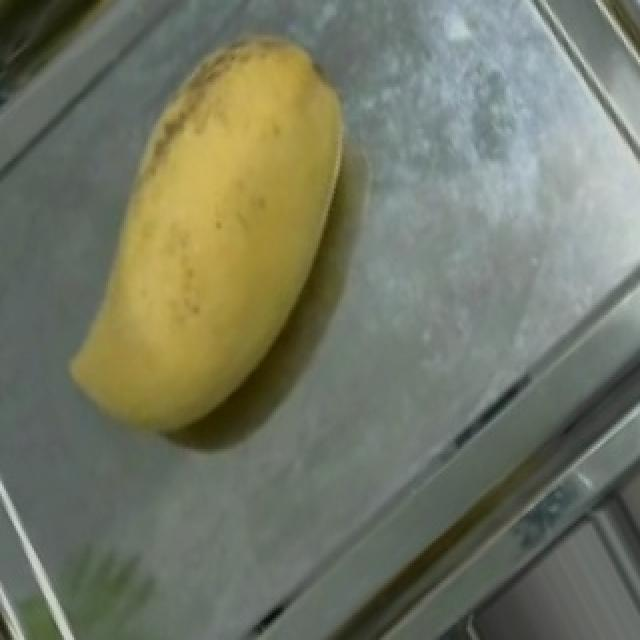fruit: (82, 2, 420, 382)
